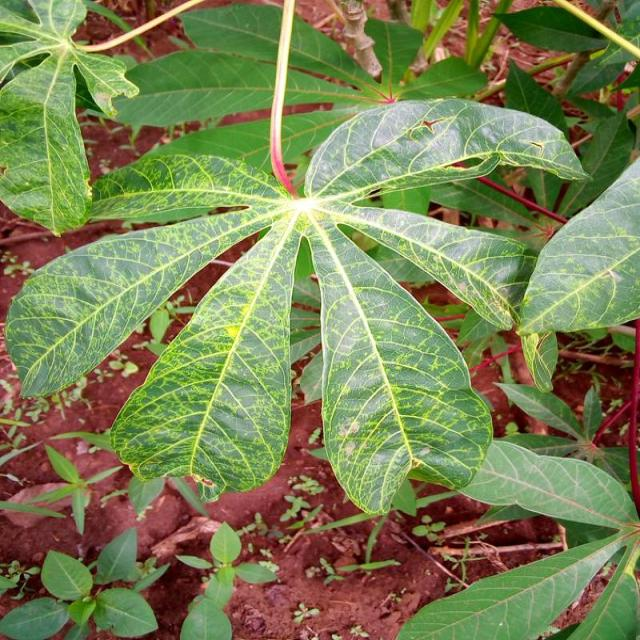cassava leaf: (303, 207, 494, 516), (108, 209, 302, 502)
